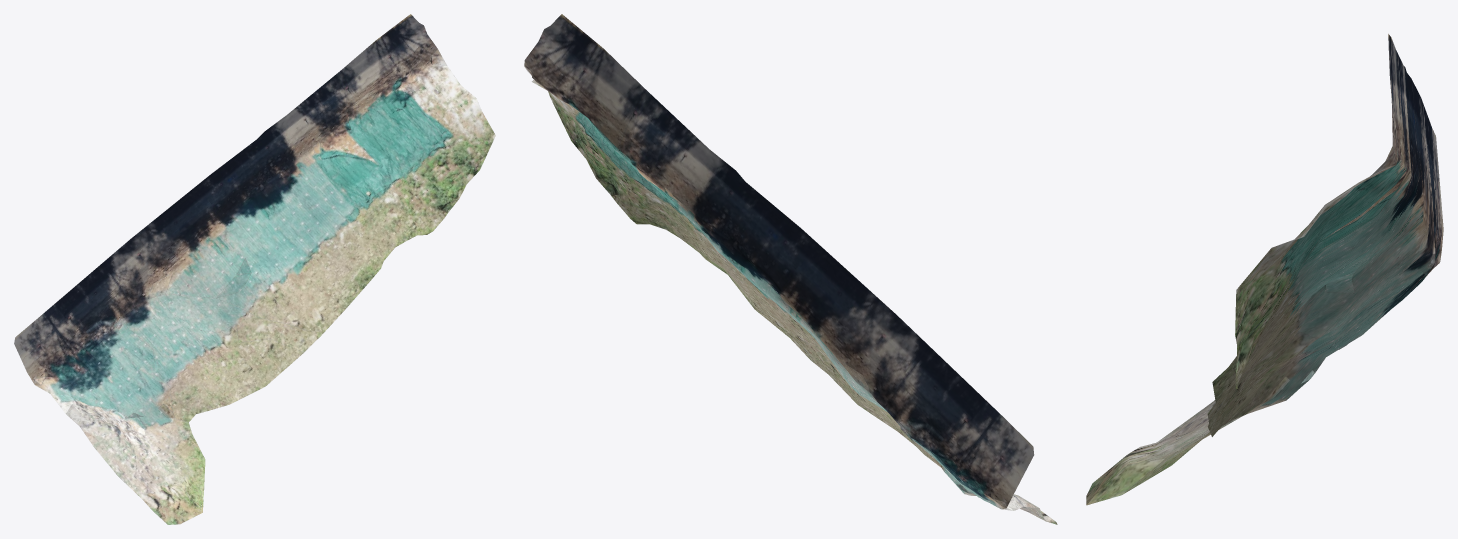
3 views of the same model, side by side, from view 1: azimuth 30°, elevation 25°; view 2: azimuth 150°, elevation 25°; view 3: azimuth 270°, elevation 25° (orthographic). The views are drawn at different scales.
Parts seen in each view (by area): view 1: Bloco t_0_0_0; view 2: Bloco t_0_0_0; view 3: Bloco t_0_0_0.
Boxes of the visible parts, x1,y1,x2,y2 form: Bloco t_0_0_0: (14, 14, 495, 524); Bloco t_0_0_0: (524, 14, 1057, 524); Bloco t_0_0_0: (1086, 34, 1443, 505).
Size of the model in its own units: 76.15 by 64.15 by 27.31.
1 material, 1 textured.
